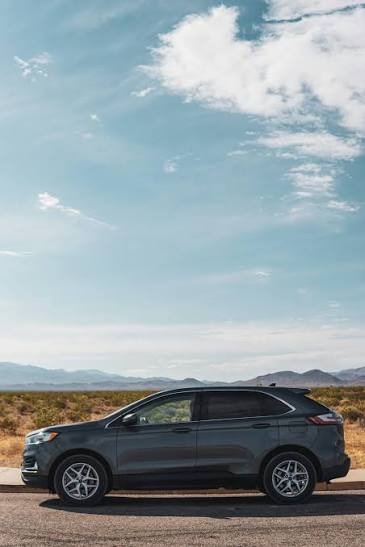car: (37, 375, 342, 497)
